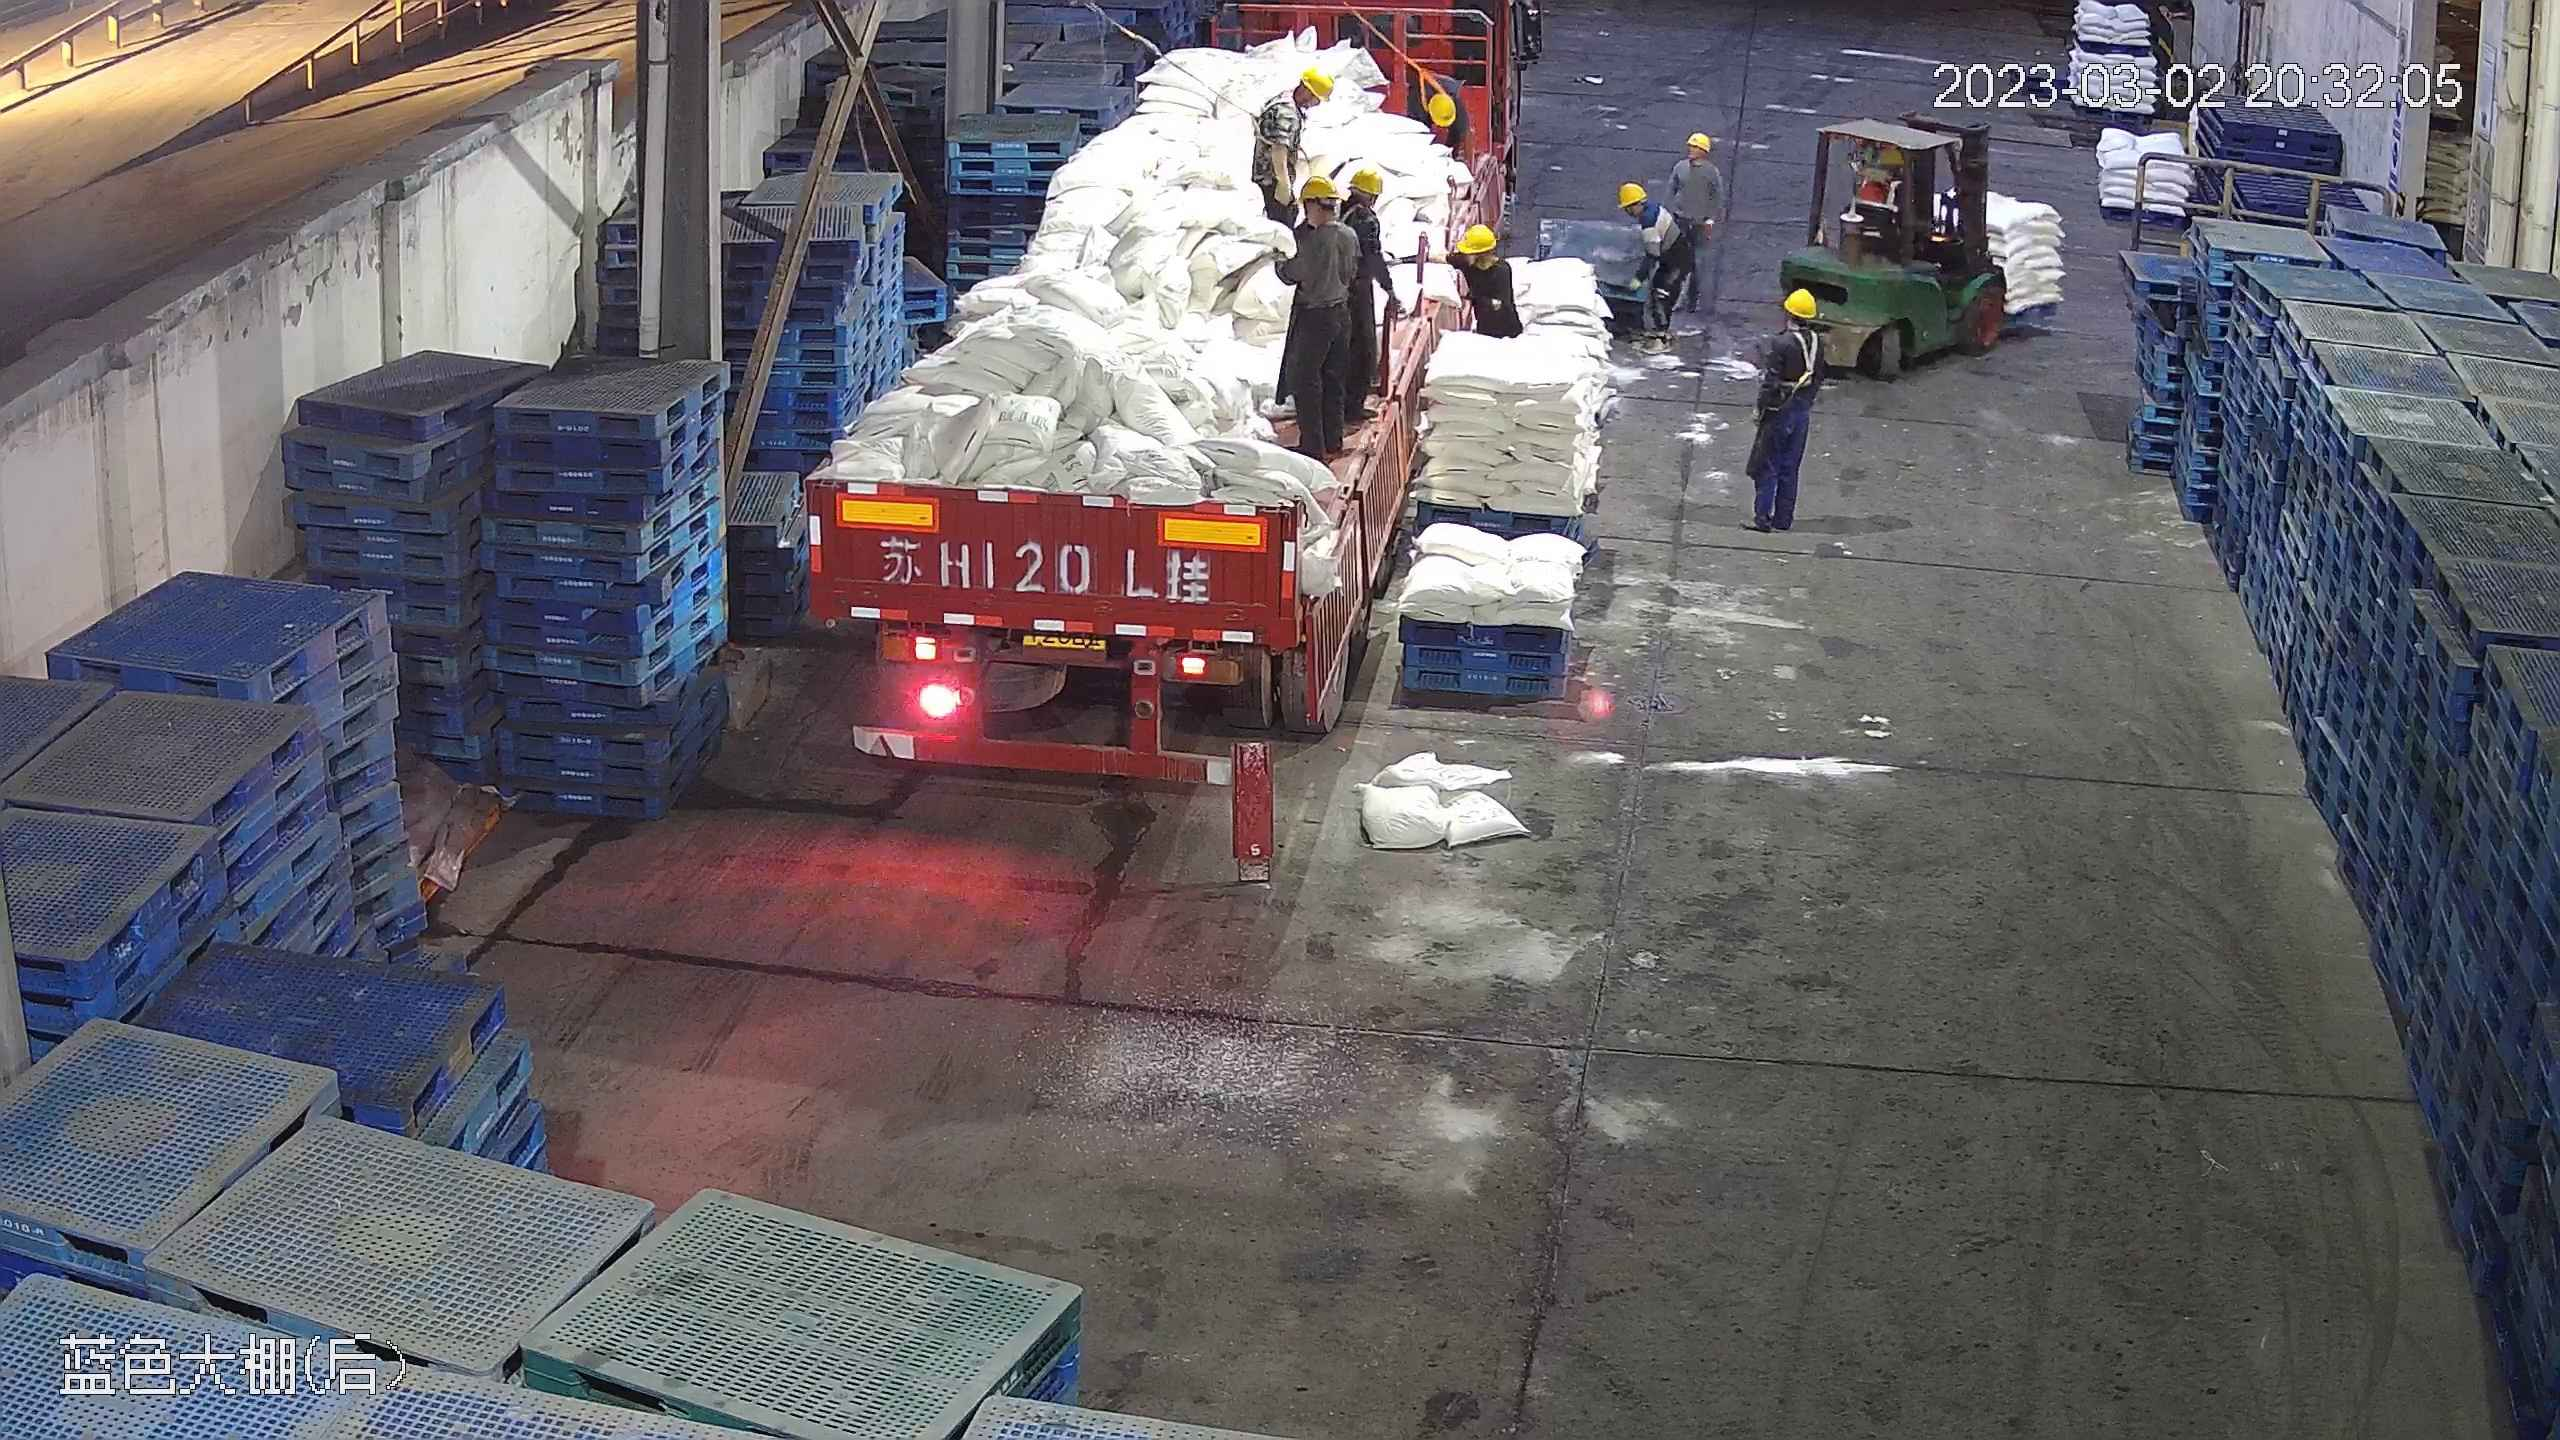belt: (1256, 95, 1307, 154), (1250, 99, 1298, 154), (1776, 329, 1823, 383), (1415, 68, 1450, 100), (1334, 197, 1360, 224)
head: (1284, 174, 1349, 261), (1258, 65, 1333, 139), (1761, 285, 1826, 370), (1613, 180, 1679, 252), (1320, 167, 1386, 241), (1450, 222, 1516, 296), (1672, 131, 1724, 190), (1861, 146, 1909, 206), (1339, 166, 1384, 213)
helmet: (1614, 179, 1675, 244), (1454, 221, 1500, 255), (1425, 88, 1459, 129), (1300, 65, 1336, 102), (1296, 173, 1337, 202), (1779, 286, 1818, 315), (1346, 167, 1384, 196), (1617, 181, 1650, 208), (1873, 145, 1905, 167), (1687, 131, 1713, 151)
people: (1268, 167, 1373, 448), (1316, 162, 1394, 438), (1740, 283, 1826, 537), (1603, 177, 1682, 356), (1248, 64, 1334, 222), (1663, 130, 1726, 309)
truck: (799, 13, 1462, 773)
